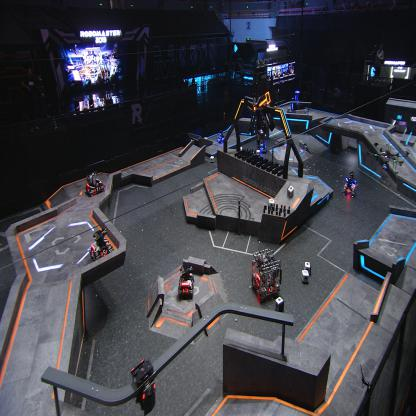car: (251, 247, 283, 302), (88, 226, 114, 260), (84, 169, 105, 197), (177, 265, 194, 298), (344, 171, 358, 191), (342, 178, 356, 198), (256, 129, 267, 153), (216, 129, 226, 144)
